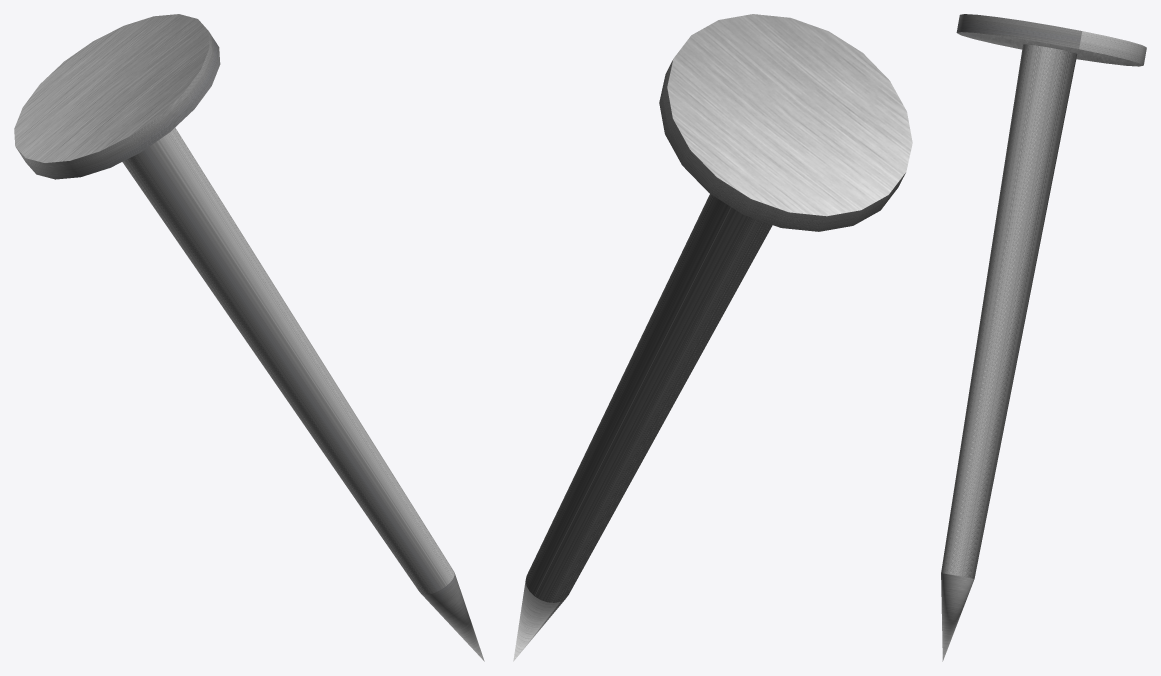
The model's file is tapoo.fbx.
3 renders of one model, left to right at view 1: azimuth 30°, elevation 25°; view 2: azimuth 150°, elevation 25°; view 3: azimuth 270°, elevation 25°, orthographic. The views are drawn at different scales.
Visible parts, largest first — view 1: pCylinder2; view 2: pCylinder2; view 3: pCylinder2.
Part boxes in pixels (x1,y1,x2,y2): pCylinder2: (14, 14, 484, 661); pCylinder2: (513, 14, 912, 661); pCylinder2: (941, 14, 1146, 661).
Size of the model in its own units: 0.9934 by 1.57 by 0.5356.
